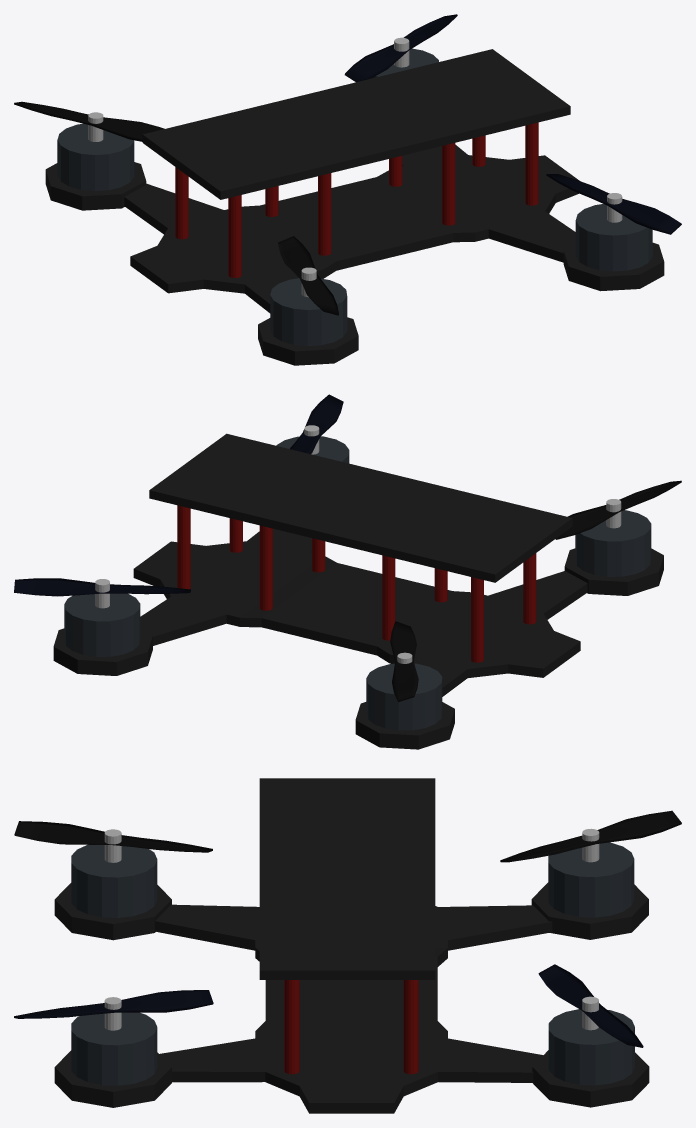
Rendered from quad.obj.
3 renders of one model, top to bottom at view 1: azimuth 30°, elevation 25°; view 2: azimuth 150°, elevation 25°; view 3: azimuth 270°, elevation 25°, orthographic. The views are drawn at different scales.
Visible parts, largest first — view 1: Cube.002_Cube.003, Cube.001_Cube.002, Cube.000_Cube.004, Cylinder.018, Cylinder.014_Cylinder.029, Cylinder.016, Cylinder.009_Cylinder.028, Cylinder.010, Cylinder.011, Cube.003_Cube.011, Cube.004_Cube.012, Cube.008_Cube.009 (+7 smaller); view 2: Cube.002_Cube.003, Cube.001_Cube.002, Cube.000_Cube.004, Cylinder.012_Cylinder.032, Cylinder.016, Cylinder.018, Cylinder.008_Cylinder.031, Cylinder.011, Cylinder.010, Cube.004_Cube.012, Cube.006_Cube.000, Cube.008_Cube.009 (+7 smaller); view 3: Cube.002_Cube.003, Cube.001_Cube.002, Cube.000_Cube.004, Cylinder.014_Cylinder.029, Cylinder.016, Cylinder.018, Cylinder.012_Cylinder.032, Cylinder.009_Cylinder.028, Cylinder.008_Cylinder.031, Cylinder.010, Cylinder.011, Cube.008_Cube.009 (+7 smaller).
Part boxes in pixels (x1=…): Cube.002_Cube.003: x1=142, y1=49, x2=570, y2=199; Cube.001_Cube.002: x1=331, y1=144, x2=579, y2=262; Cube.000_Cube.004: x1=124, y1=183, x2=394, y2=313; Cylinder.018: x1=57, y1=123, x2=134, y2=190; Cylinder.014_Cylinder.029: x1=575, y1=204, x2=652, y2=271; Cylinder.016: x1=270, y1=278, x2=347, y2=345; Cylinder.009_Cylinder.028: x1=563, y1=242, x2=664, y2=291; Cylinder.010: x1=258, y1=317, x2=358, y2=365; Cylinder.011: x1=45, y1=162, x2=146, y2=210; Cube.003_Cube.011: x1=546, y1=174, x2=681, y2=234; Cube.004_Cube.012: x1=344, y1=14, x2=457, y2=82; Cube.008_Cube.009: x1=278, y1=236, x2=338, y2=315; Cube.002_Cube.003: x1=149, y1=433, x2=572, y2=582; Cube.001_Cube.002: x1=133, y1=528, x2=382, y2=645; Cube.000_Cube.004: x1=319, y1=571, x2=587, y2=696; Cylinder.012_Cylinder.032: x1=64, y1=593, x2=140, y2=656; Cylinder.016: x1=575, y1=510, x2=651, y2=576; Cylinder.018: x1=366, y1=663, x2=442, y2=730; Cylinder.008_Cylinder.031: x1=53, y1=628, x2=152, y2=675; Cylinder.011: x1=355, y1=702, x2=454, y2=749; Cylinder.010: x1=564, y1=548, x2=663, y2=595; Cube.004_Cube.012: x1=14, y1=578, x2=190, y2=596; Cube.006_Cube.000: x1=390, y1=621, x2=418, y2=702; Cube.008_Cube.009: x1=555, y1=480, x2=681, y2=539; Cube.002_Cube.003: x1=259, y1=778, x2=435, y2=979; Cube.001_Cube.002: x1=159, y1=988, x2=543, y2=1113; Cube.000_Cube.004: x1=155, y1=904, x2=552, y2=988; Cylinder.014_Cylinder.029: x1=71, y1=1012, x2=157, y2=1085; Cylinder.016: x1=71, y1=844, x2=157, y2=917; Cylinder.018: x1=548, y1=842, x2=634, y2=917; Cylinder.012_Cylinder.032: x1=548, y1=1009, x2=634, y2=1085; Cylinder.009_Cylinder.028: x1=54, y1=1050, x2=171, y2=1107; Cylinder.008_Cylinder.031: x1=532, y1=1050, x2=649, y2=1107; Cylinder.010: x1=54, y1=883, x2=171, y2=940; Cylinder.011: x1=531, y1=882, x2=648, y2=939; Cube.008_Cube.009: x1=14, y1=821, x2=212, y2=852.
Size of the model in its own units: 3.28 by 0.8052 by 3.91.
